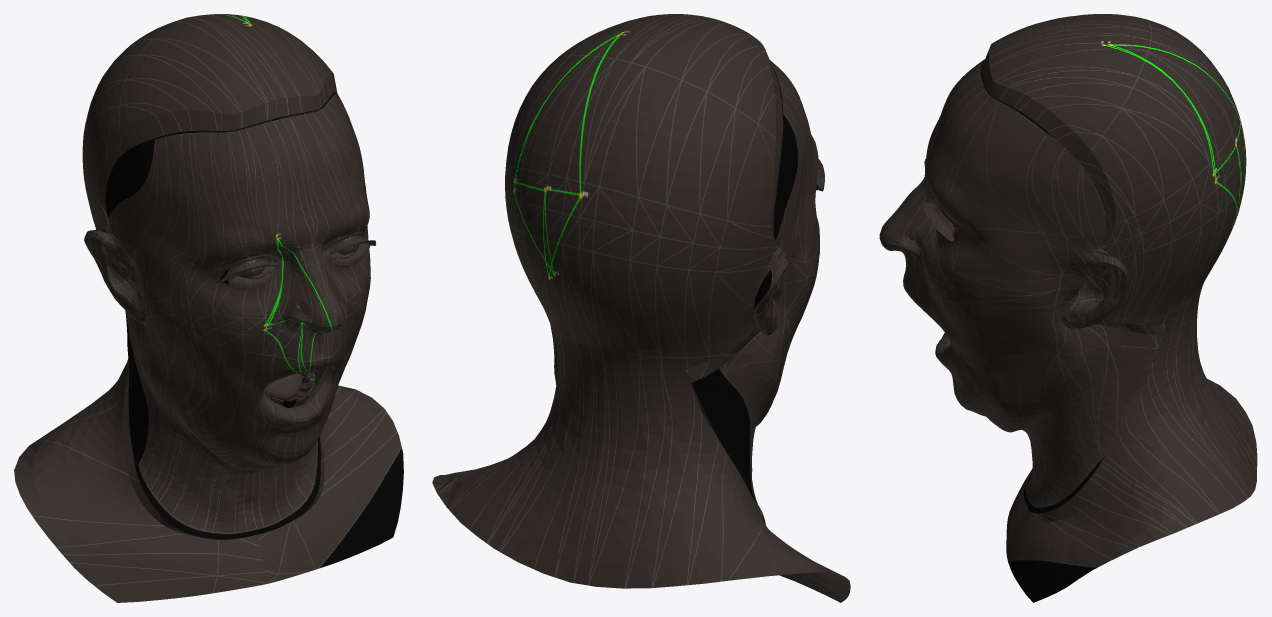
The model's file is ict_mediapipe_M_EyeOcclusion_textured.obj.
3 renders of one model, left to right at view 1: azimuth 30°, elevation 25°; view 2: azimuth 150°, elevation 25°; view 3: azimuth 270°, elevation 25°, orthographic. The views are drawn at different scales.
Size of the model in its own units: 1.02 by 1.38 by 0.9253.
1 material, 1 textured.
